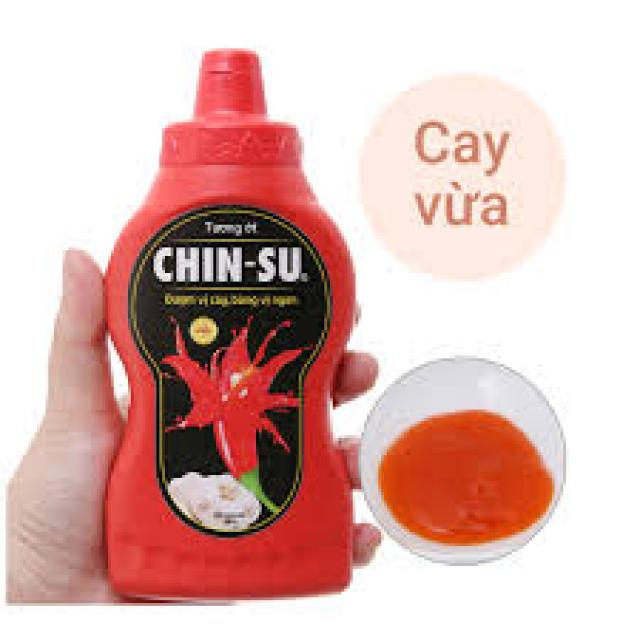tuong ot chinsu: (104, 45, 361, 602)
